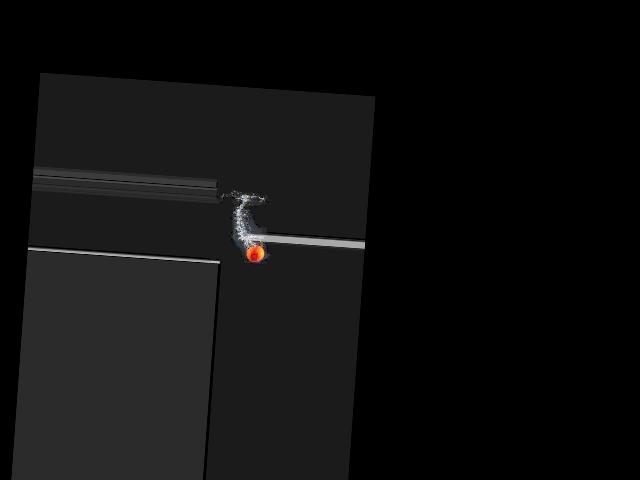tomato: (246, 245, 265, 262)
